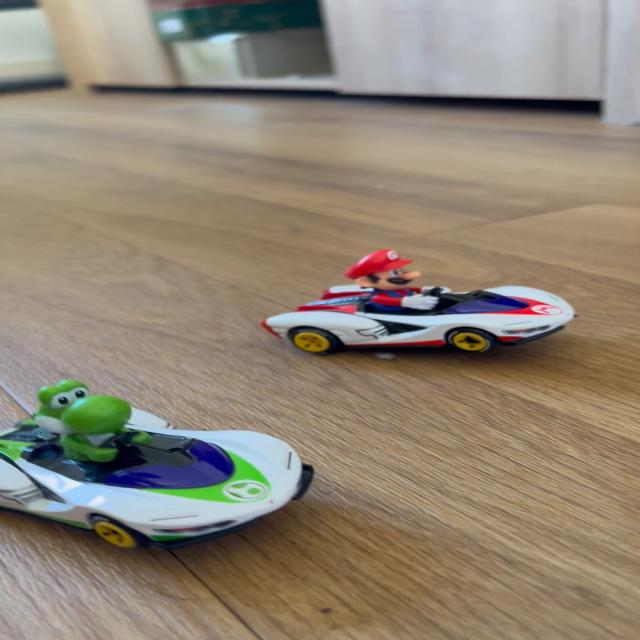mario: (251, 248, 589, 360)
yoshi: (0, 364, 324, 550)
